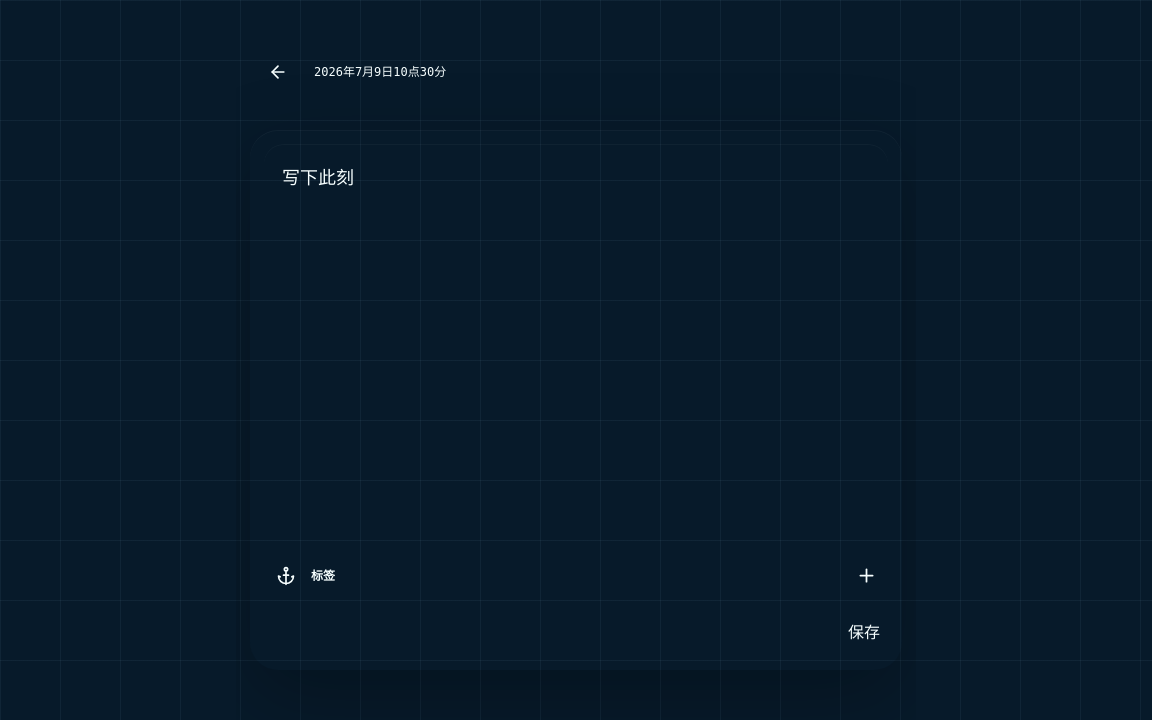
Test case: NowPage › collects upload actions behind the add button
What coordinates should you click on to do the following:
click the button named "添加素材"
I would click on:
 (866, 576)
Its box is [844,554,888,598].
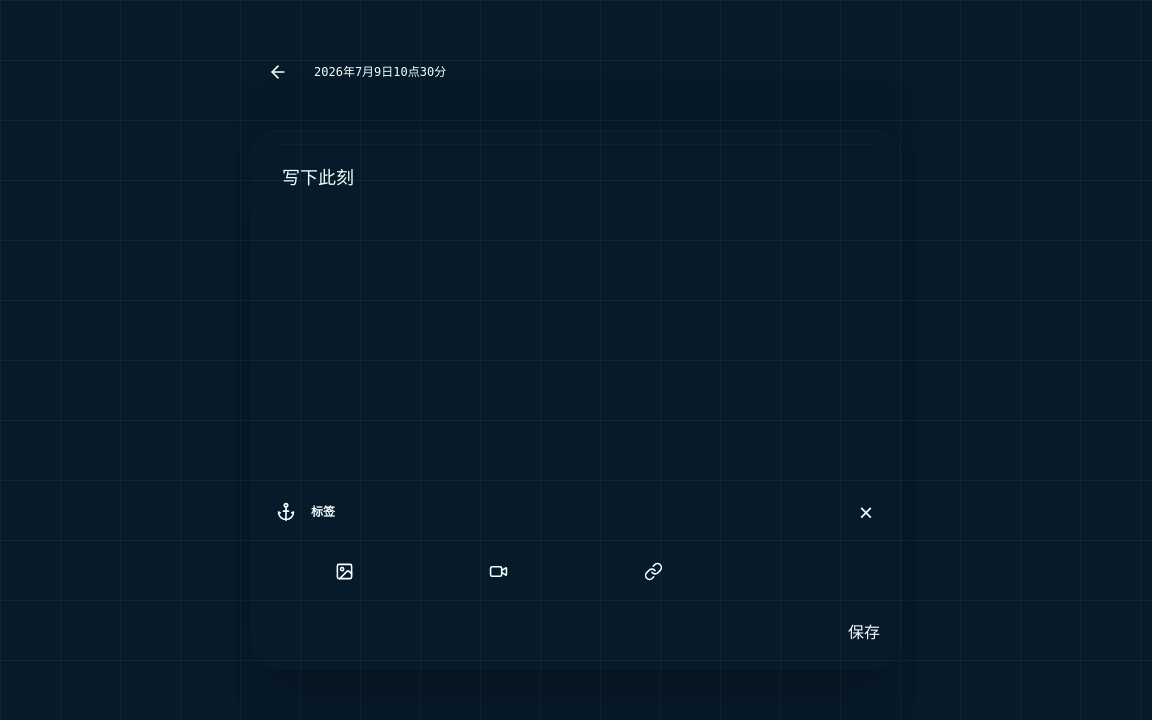
Expected: the button named "收起素材" is shown, [835,480,897,543]
Expected: the button named "图片" is shown, [270,550,418,594]
Expected: the button named "视频" is shown, [424,550,573,594]
